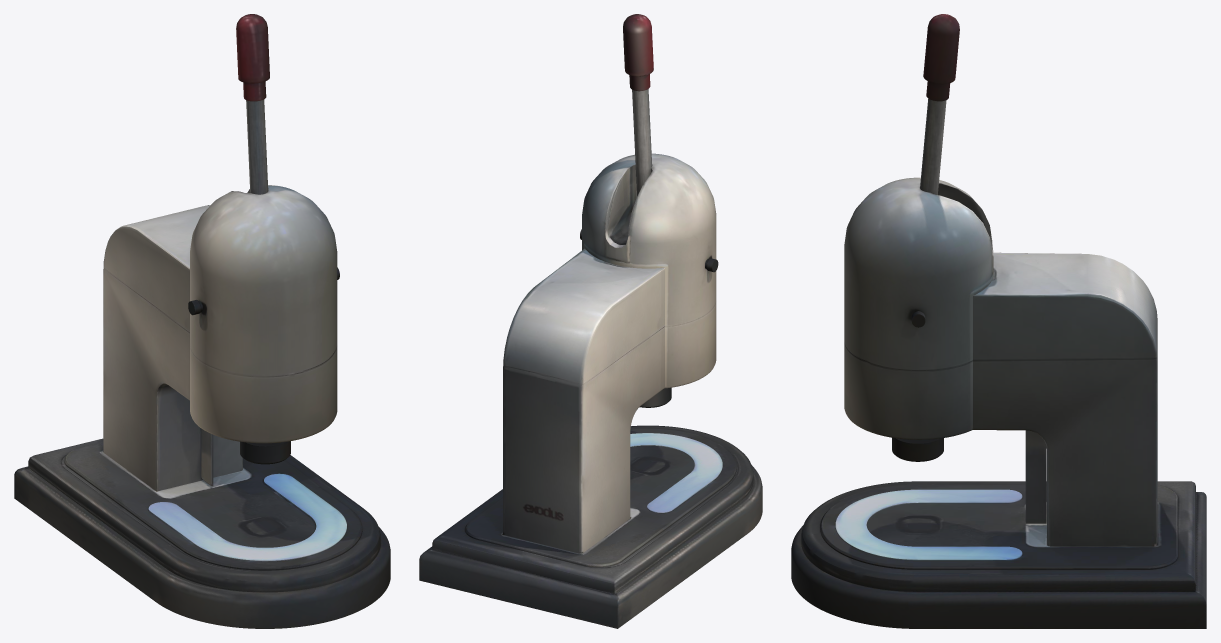
3 renders of one model, left to right at view 1: azimuth 30°, elevation 25°; view 2: azimuth 150°, elevation 25°; view 3: azimuth 270°, elevation 25°, orthographic. The views are drawn at different scales.
Parts seen in each view (by area): view 1: FAKE; view 2: FAKE; view 3: FAKE.
Boxes of the visible parts, x1,y1,x2,y2 form: FAKE: [14, 14, 390, 628]; FAKE: [419, 14, 762, 628]; FAKE: [791, 14, 1206, 628].
Bounding box in the file's own units: 0.4311 × 1.04 × 0.7031.
Materials: 1 (1 with a texture image).
